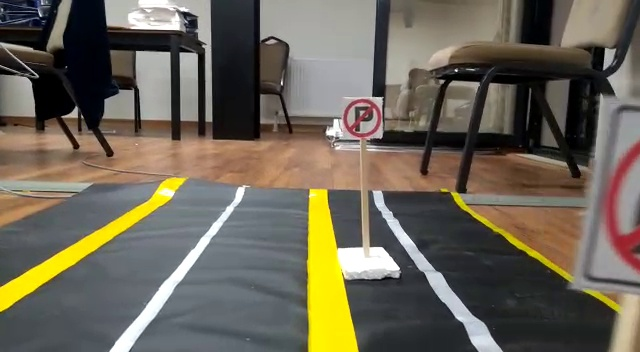park_yapilmaz: (342, 98, 386, 142)
